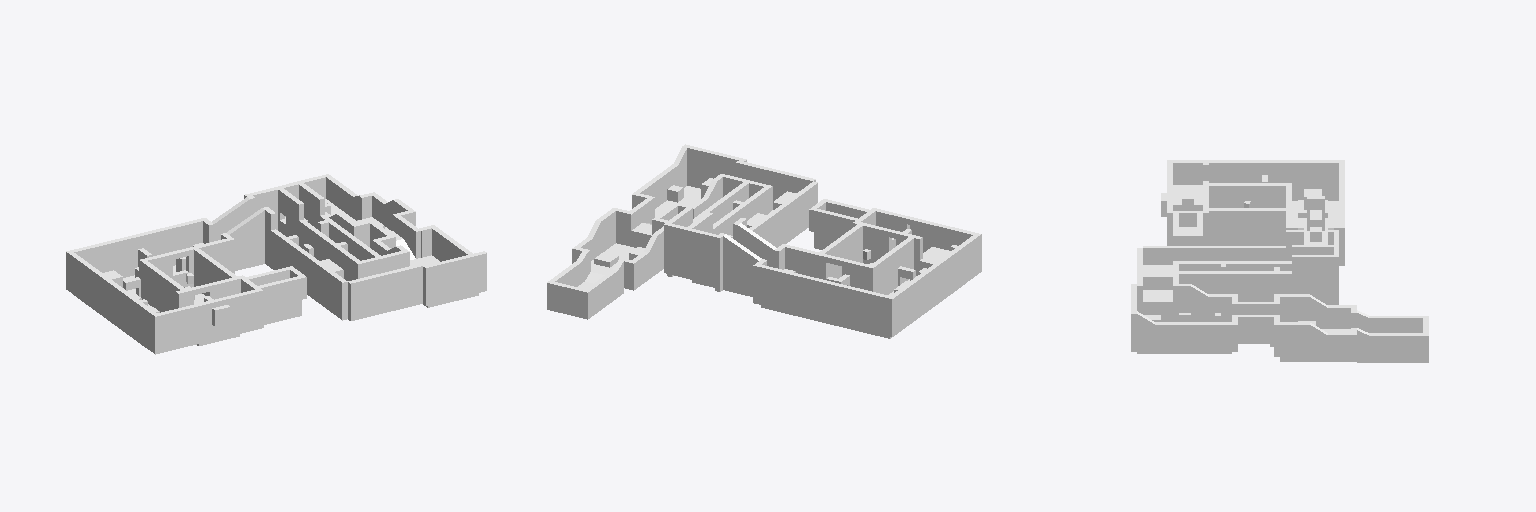
Rendered from level0mesh.obj.
3 views of the same model, side by side, from view 1: azimuth 30°, elevation 25°; view 2: azimuth 150°, elevation 25°; view 3: azimuth 270°, elevation 25° (orthographic).
Visible parts, largest first — view 1: level0mesh; view 2: level0mesh; view 3: level0mesh.
Part boxes in pixels (x1,y1,x2,y2): level0mesh: (66, 174, 486, 354); level0mesh: (547, 144, 981, 338); level0mesh: (1131, 160, 1428, 362).
Size of the model in its own units: 61 by 13 by 50.